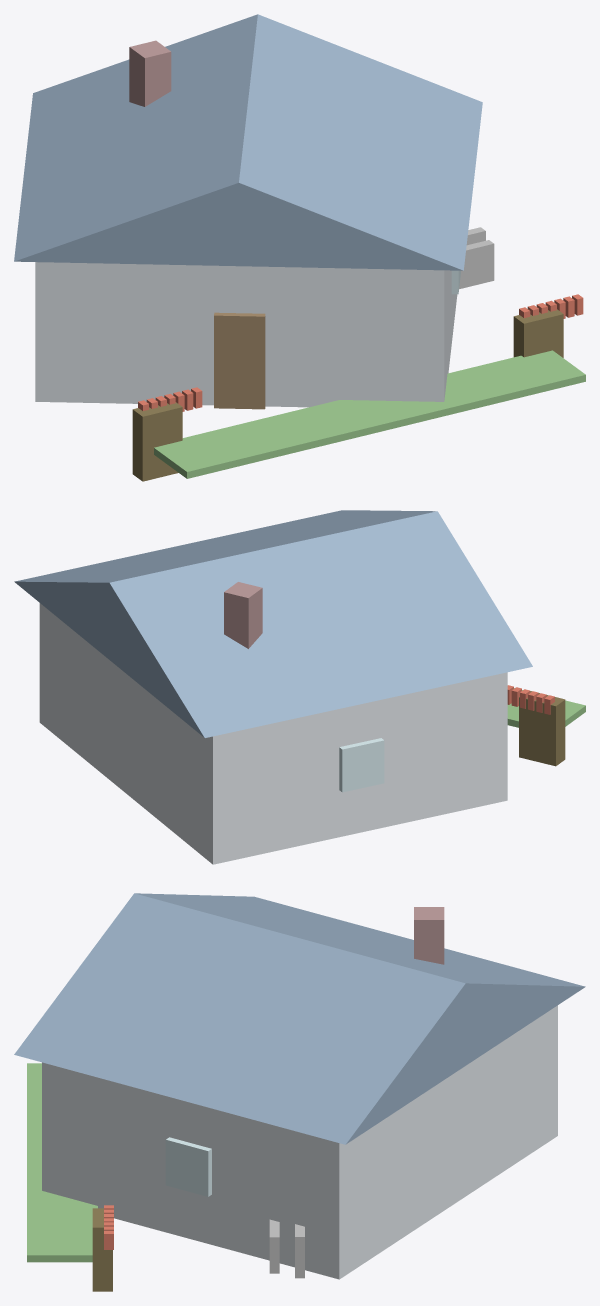
File: house_athena.glb
3 renders of one model, top to bottom at view 1: azimuth 30°, elevation 25°; view 2: azimuth 150°, elevation 25°; view 3: azimuth 270°, elevation 25°, orthographic. The views are drawn at different scales.
Visible parts, largest first — view 1: athena_atap.001, athena_dinding.001, athena_rumput.001, athena_pintu.001, athena_rak-1.001, athena_cerobong.001, athena_rak1.001, athena_bangku_depan.001; view 2: athena_atap.001, athena_dinding.001, athena_rak-1.001, athena_cerobong.001, athena_jendela_1.001, athena_rumput.001; view 3: athena_atap.001, athena_dinding.001, athena_rumput.001, athena_jendela_-1.001, athena_cerobong.001, athena_rak1.001, athena_bangku_depan.001, athena_bangku.001.
Part boxes in pixels (bbox=[...]): athena_atap.001: bbox=[14, 14, 482, 270]; athena_dinding.001: bbox=[35, 262, 457, 407]; athena_rumput.001: bbox=[154, 350, 585, 478]; athena_pintu.001: bbox=[214, 312, 265, 409]; athena_rak-1.001: bbox=[132, 402, 182, 481]; athena_cerobong.001: bbox=[129, 40, 171, 106]; athena_rak1.001: bbox=[513, 309, 563, 357]; athena_bangku_depan.001: bbox=[459, 240, 494, 289]; athena_atap.001: bbox=[14, 510, 532, 737]; athena_dinding.001: bbox=[39, 603, 507, 864]; athena_rak-1.001: bbox=[519, 691, 565, 766]; athena_cerobong.001: bbox=[224, 582, 262, 648]; athena_jendela_1.001: bbox=[339, 738, 384, 792]; athena_rumput.001: bbox=[507, 688, 585, 727]; athena_atap.001: bbox=[14, 893, 585, 1144]; athena_dinding.001: bbox=[42, 1005, 557, 1279]; athena_rumput.001: bbox=[27, 1063, 97, 1262]; athena_jendela_-1.001: bbox=[165, 1137, 211, 1196]; athena_cerobong.001: bbox=[414, 907, 444, 964]; athena_rak1.001: bbox=[92, 1208, 112, 1291]; athena_bangku_depan.001: bbox=[269, 1219, 279, 1273]; athena_bangku.001: bbox=[295, 1224, 304, 1278].
Bounding box in the file's own units: 11.62 × 5.7 × 11.32.
